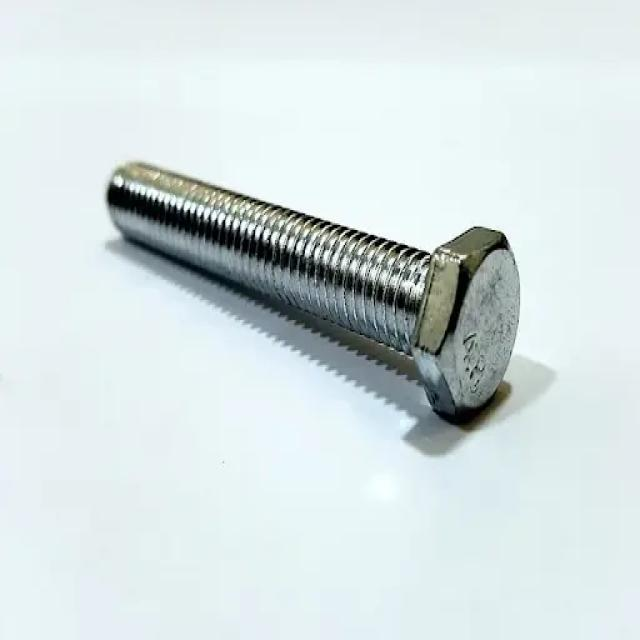Logam: (81, 118, 538, 412)
